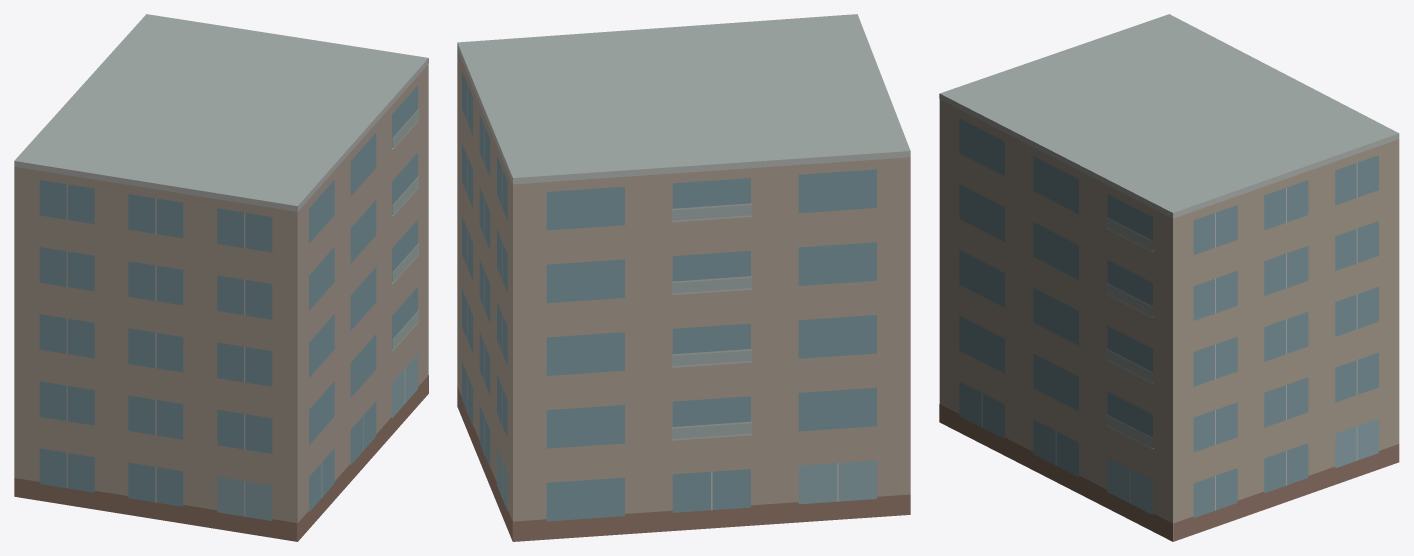
Rendered from survey-upis-32777926.glb.
The picture shows the model from 3 angles, left to right: view 1: azimuth 30°, elevation 25°; view 2: azimuth 150°, elevation 25°; view 3: azimuth 270°, elevation 25°; orthographic projection. The views are drawn at different scales.
Parts seen in each view (by area): view 1: survey-upis-32777926.tmp; view 2: survey-upis-32777926.tmp; view 3: survey-upis-32777926.tmp.
Boxes of the visible parts, left/top/right/bottom form: survey-upis-32777926.tmp: left=14, top=14, right=428, bottom=541; survey-upis-32777926.tmp: left=457, top=14, right=910, bottom=541; survey-upis-32777926.tmp: left=939, top=14, right=1399, bottom=541.
Size of the model in its own units: 18.31 by 14.1 by 17.88.
